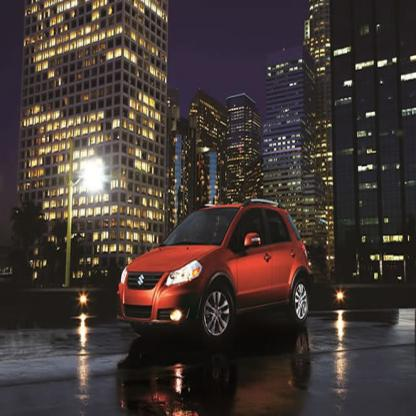Vehicle: (119, 198, 313, 352)
